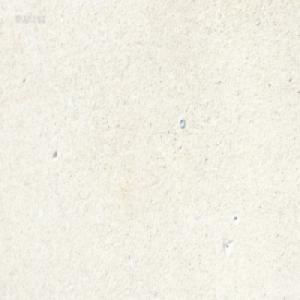Washer: (179, 117, 185, 128)
